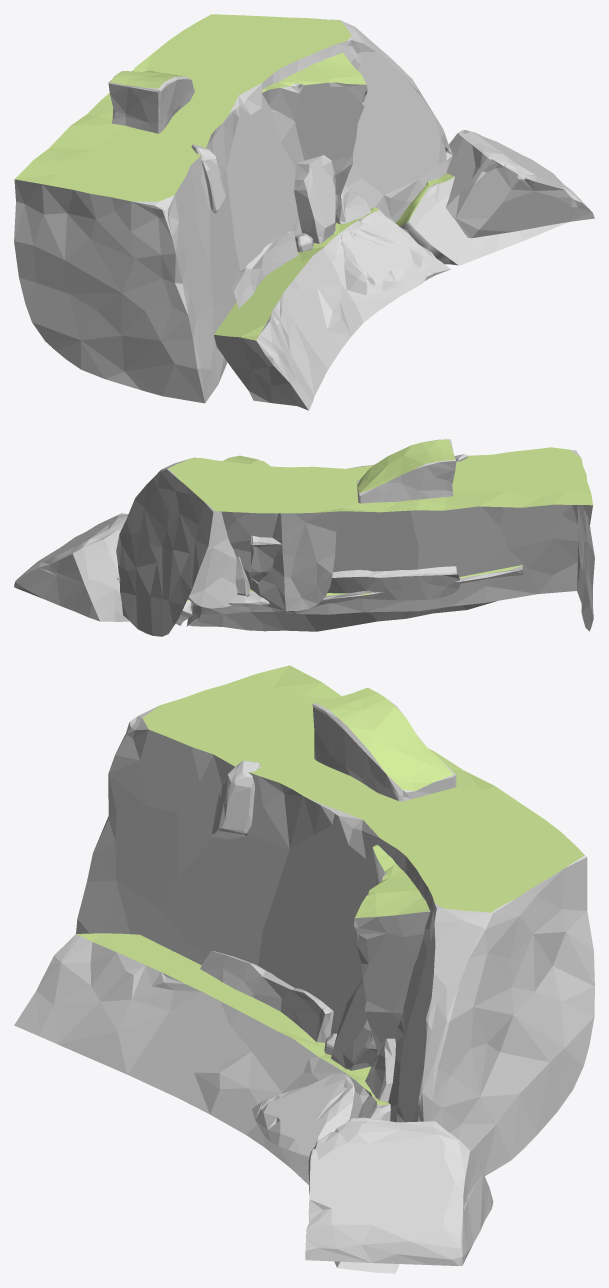
The model's file is rock3.fbx.
The picture shows the model from 3 angles, top to bottom: view 1: azimuth 30°, elevation 25°; view 2: azimuth 150°, elevation 25°; view 3: azimuth 270°, elevation 25°; orthographic projection. The views are drawn at different scales.
Visible parts, largest first — view 1: 立方体.021; view 2: 立方体.021; view 3: 立方体.021.
Part boxes in pixels (<box>): 立方体.021: <box>14,14,594,410</box>; 立方体.021: <box>14,439,594,636</box>; 立方体.021: <box>14,665,594,1273</box>.
Size of the model in its own units: 1877 by 794 by 1261.
